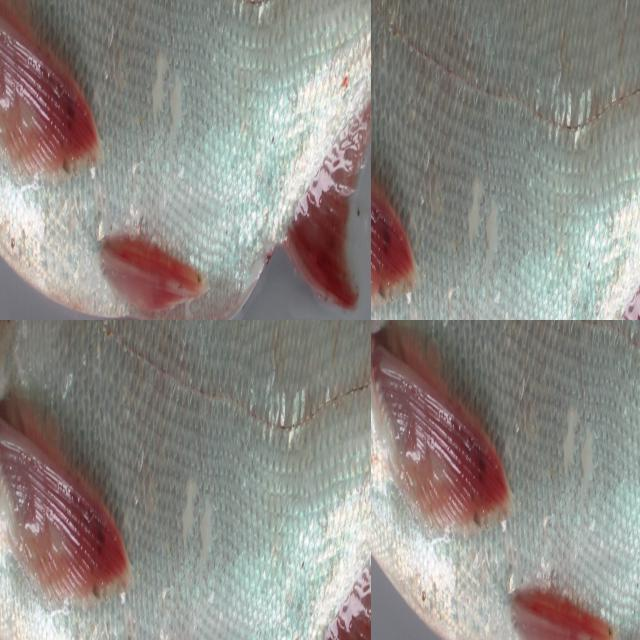fish: (371, 320, 640, 640)
